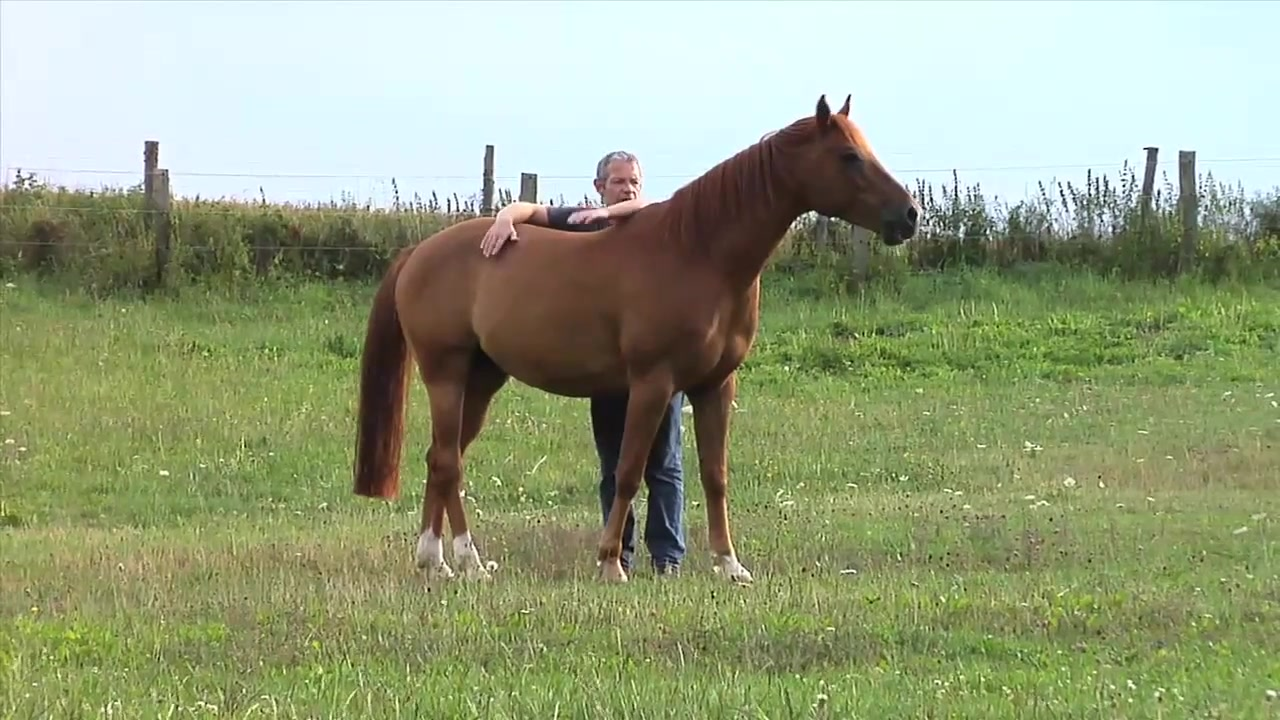horse: (352, 94, 924, 589)
